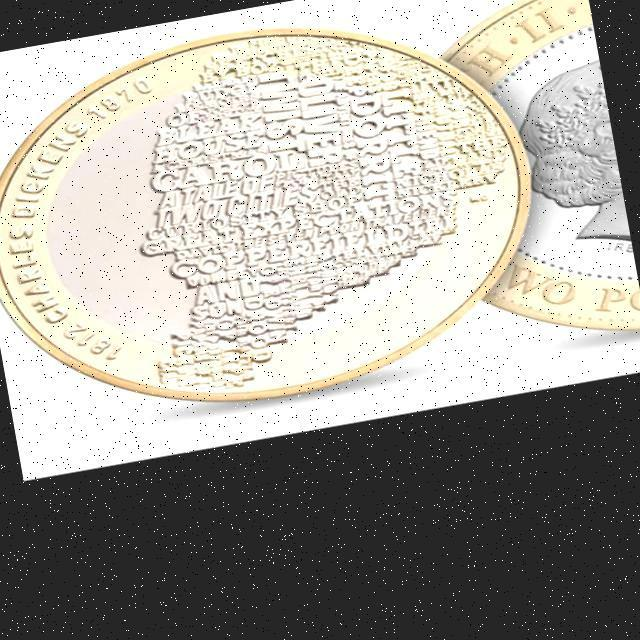Circle: (0, 25, 533, 411)
